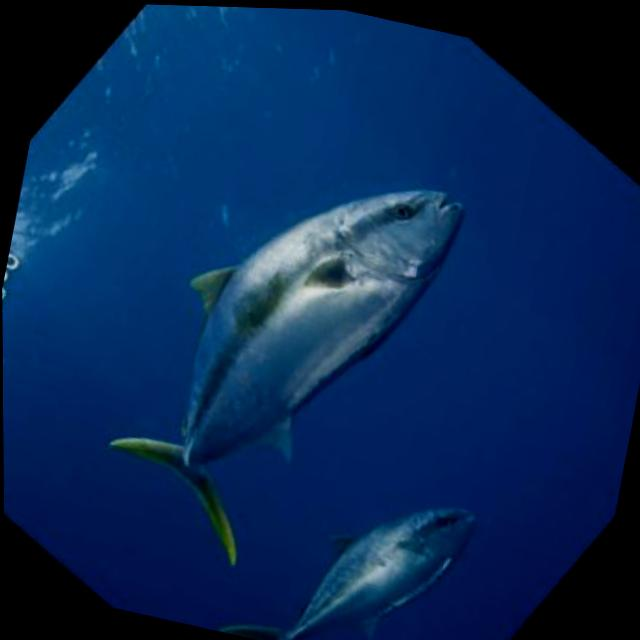Kingfish: (83, 120, 475, 612)
